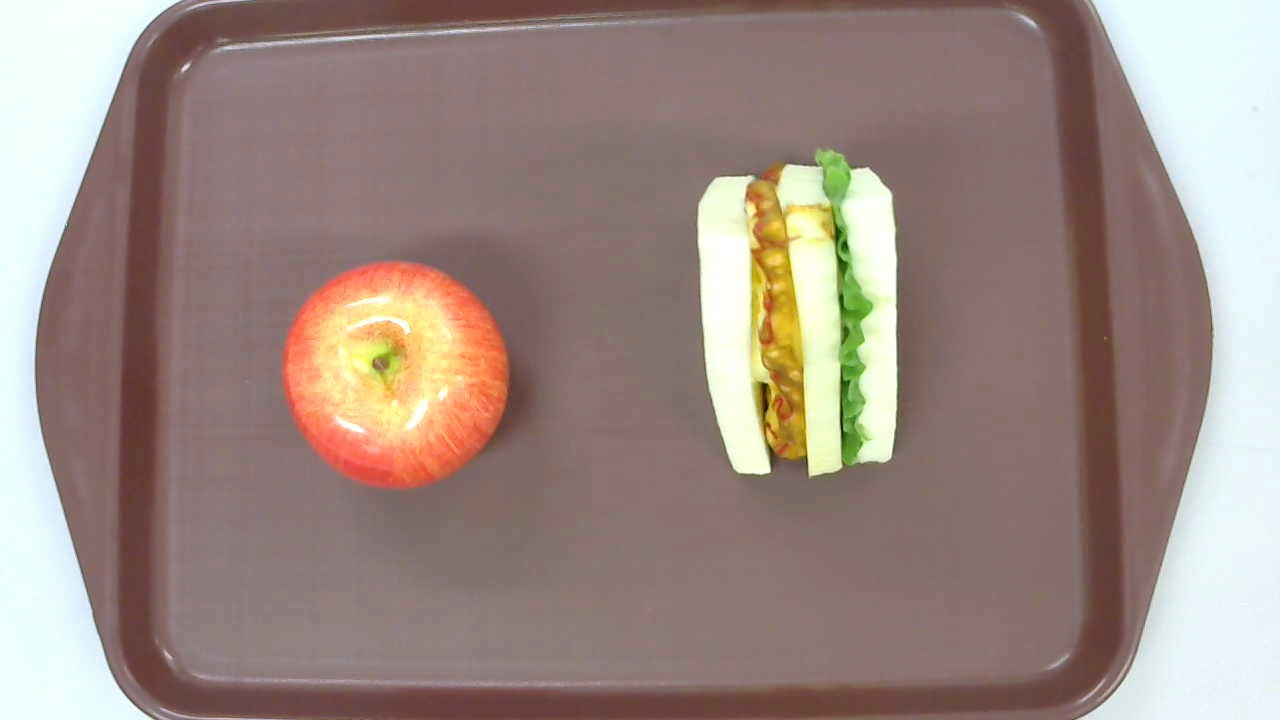red apple: (280, 260, 509, 491)
sandwich: (698, 148, 899, 477)
